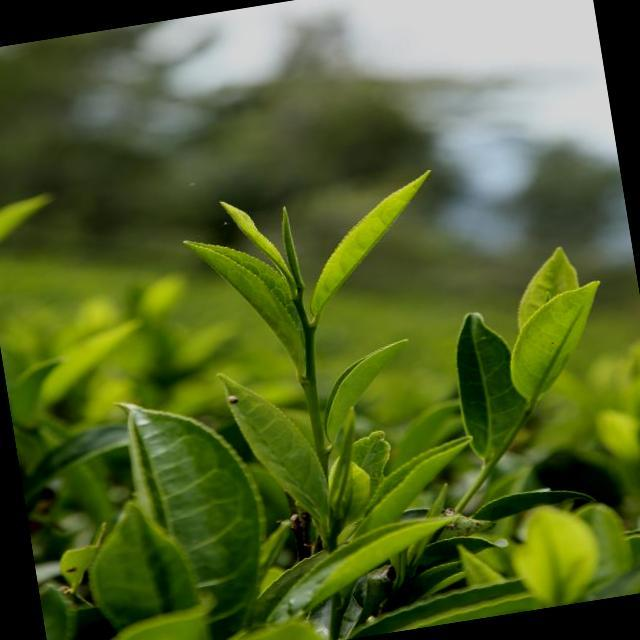Stem: (304, 325, 314, 341)
